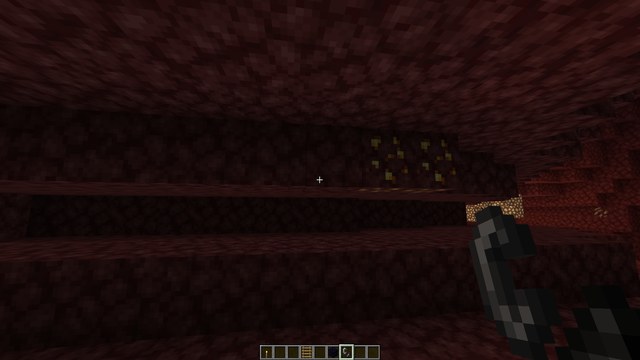nethergold: (358, 127, 460, 202)
